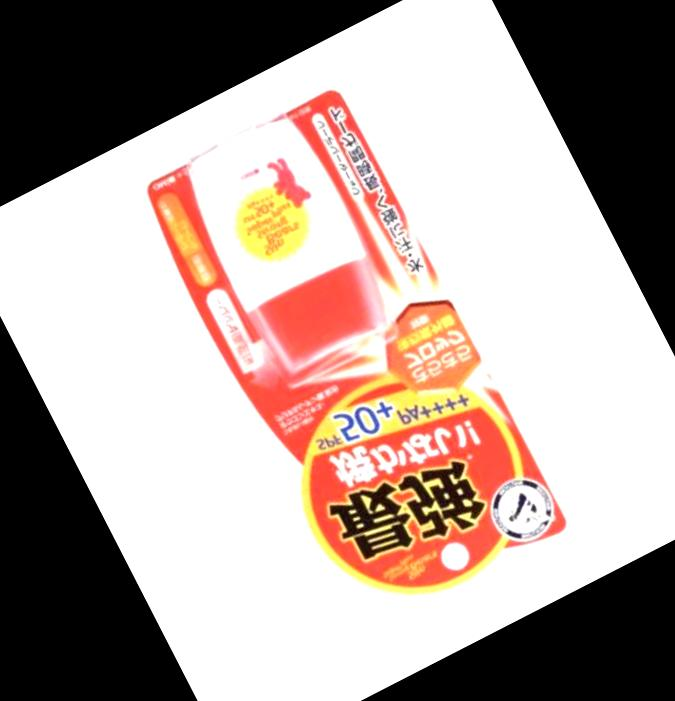cosmetic: (170, 100, 403, 380)
